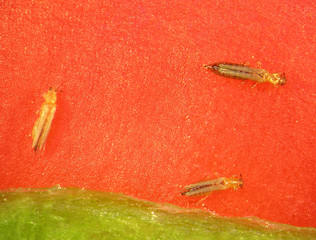Thrips: (166, 163, 258, 204), (188, 56, 297, 88), (26, 83, 64, 160)
